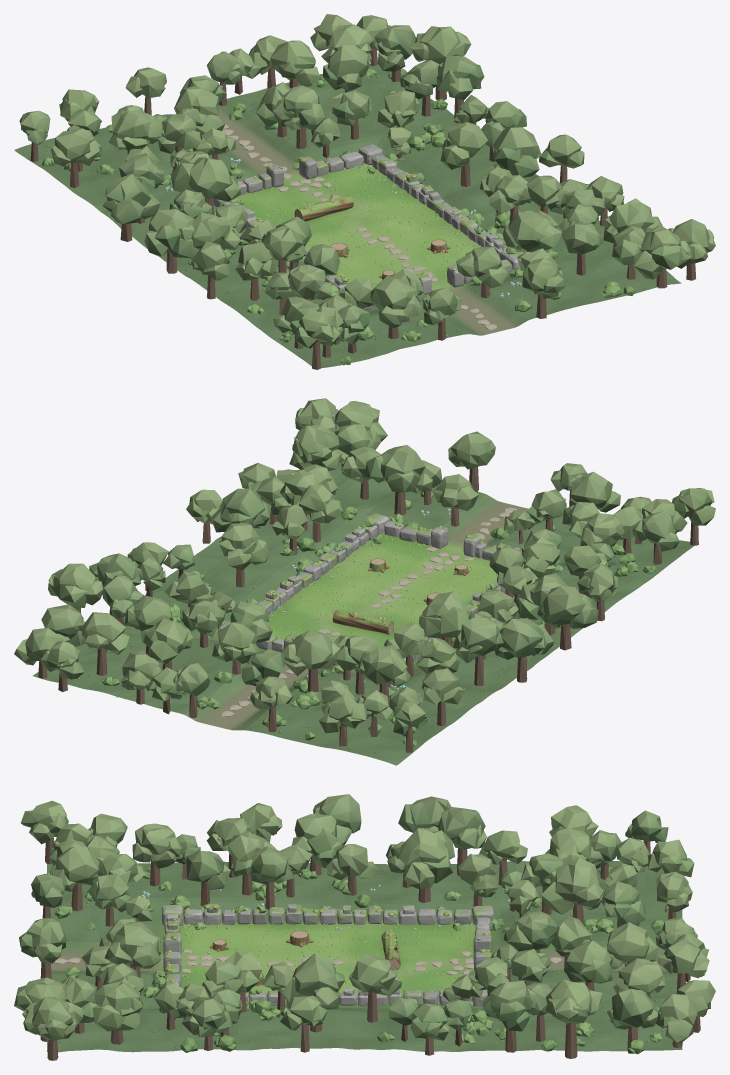
File: mossy_glade_log_roblox.glb
3 renders of one model, top to bottom at view 1: azimuth 30°, elevation 25°; view 2: azimuth 150°, elevation 25°; view 3: azimuth 270°, elevation 25°, orthographic. The views are drawn at different scales.
Parts seen in each view (by area): view 1: Trees, Ground, Walls, Bushes, Props, Grass; view 2: Trees, Ground, Walls, Bushes, Props, Grass; view 3: Trees, Ground, Walls, Bushes, Grass, Props.
Part boxes in pixels (left/top/right/bottom): Trees: left=19, top=14, right=715, bottom=369; Ground: left=14, top=60, right=681, bottom=368; Walls: left=213, top=144, right=523, bottom=310; Bushes: left=42, top=68, right=634, bottom=365; Props: left=166, top=160, right=520, bottom=297; Grass: left=28, top=68, right=617, bottom=363; Trees: left=14, top=398, right=715, bottom=752; Ground: left=33, top=462, right=693, bottom=765; Walls: left=218, top=513, right=519, bottom=670; Bushes: left=102, top=491, right=655, bottom=746; Props: left=292, top=510, right=470, bottom=690; Grass: left=52, top=464, right=658, bottom=758; Trees: left=14, top=794, right=715, bottom=1060; Ground: left=47, top=861, right=682, bottom=1052; Walls: left=161, top=903, right=493, bottom=1006; Bushes: left=46, top=865, right=668, bottom=1054; Grass: left=59, top=866, right=669, bottom=1050; Props: left=142, top=886, right=509, bottom=985.
Size of the model in its own units: 35.62 by 6.21 by 47.5.
